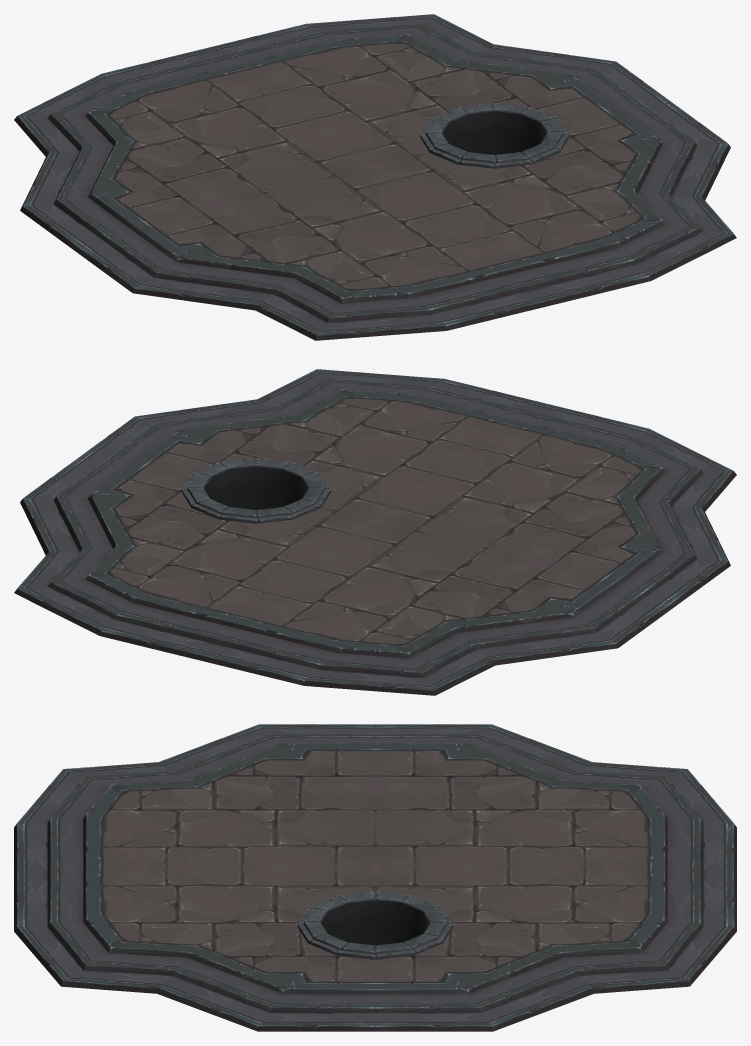
File: huoshan_Ground_pvp_05.FBX
3 views of the same model, one above another, from view 1: azimuth 30°, elevation 25°; view 2: azimuth 150°, elevation 25°; view 3: azimuth 270°, elevation 25° (orthographic). The views are drawn at different scales.
Parts seen in each view (by area): view 1: huoshan_Ground_pvp_05; view 2: huoshan_Ground_pvp_05; view 3: huoshan_Ground_pvp_05.
Boxes of the visible parts, x1=… form: huoshan_Ground_pvp_05: x1=14, y1=14, x2=736, y2=340; huoshan_Ground_pvp_05: x1=14, y1=369, x2=736, y2=695; huoshan_Ground_pvp_05: x1=14, y1=724, x2=736, y2=1031.
Bounding box in the file's own units: 2786 × 208 × 2798.
